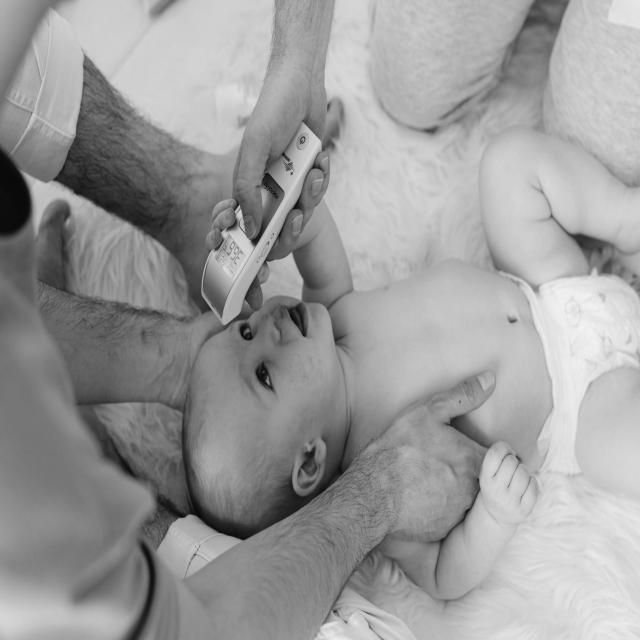lie: (164, 158, 640, 570)
